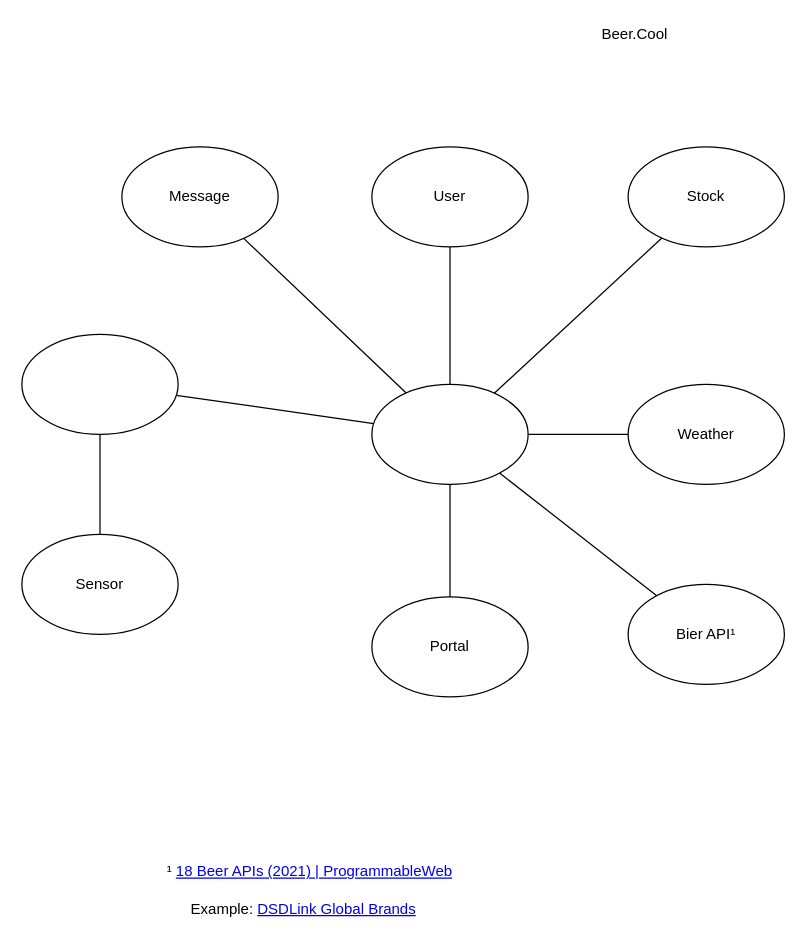
Image size: 806x943. Some labels were removed from this diagram. The shapes that lost their labels are listed below. From the top down, each one's centre as x and y in pixels, then its label:
pixel 99 383: Monitor
pixel 449 433: Core
